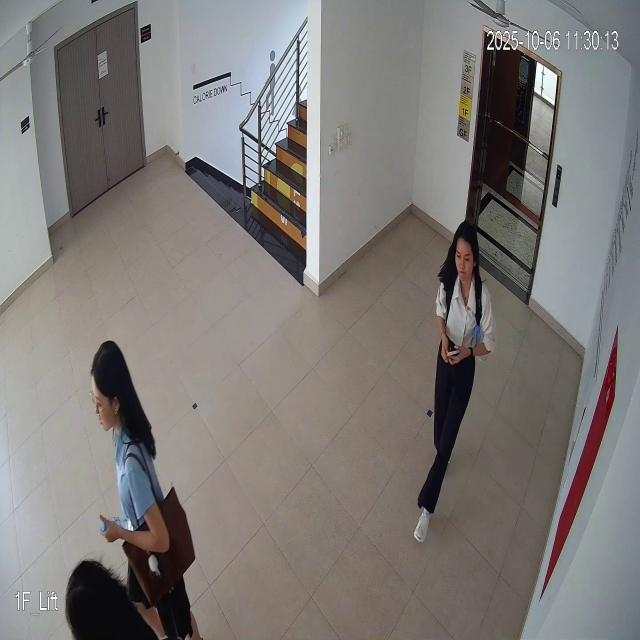face: (451, 212, 483, 294)
